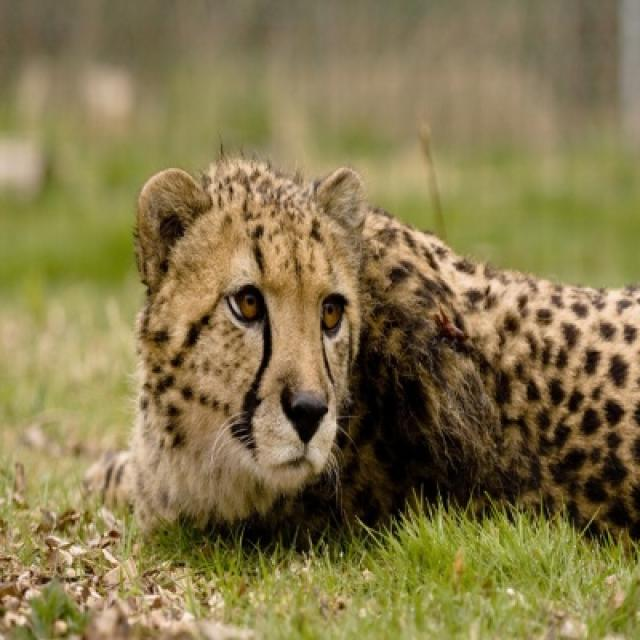Cheetah: (69, 154, 638, 545)
